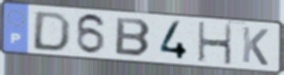4: (158, 19, 190, 62)
6: (75, 12, 111, 56)
B: (113, 16, 153, 58)
D: (30, 10, 73, 53)
H: (196, 21, 234, 67)
K: (240, 25, 270, 68)
